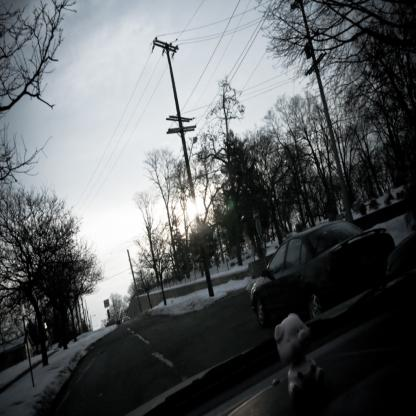Car: (126, 235, 416, 416), (253, 222, 396, 328)
